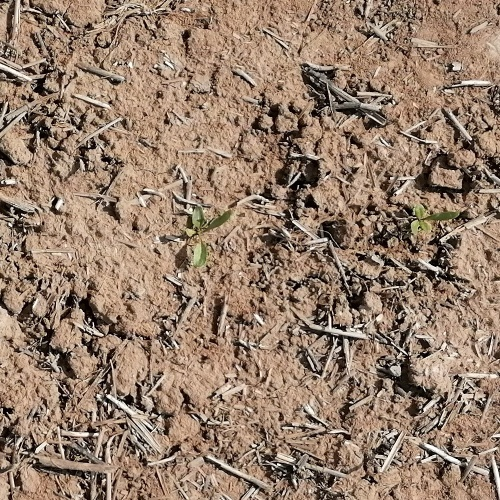beet: (188, 207, 234, 271), (413, 205, 458, 243)
